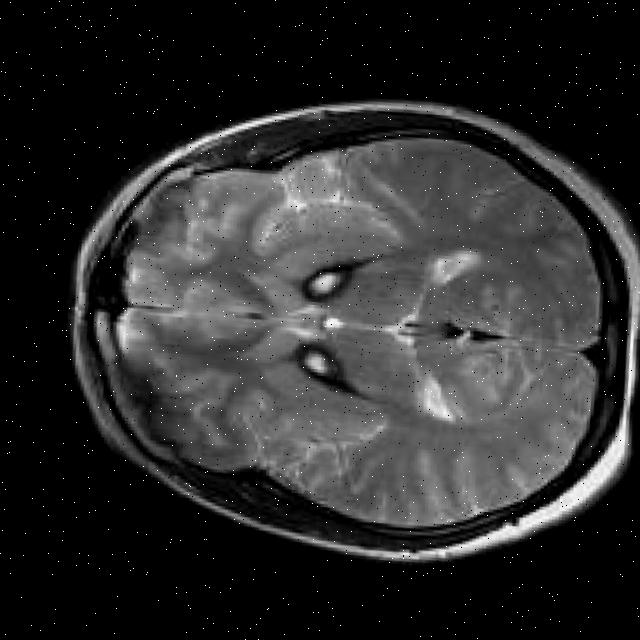NoTumor: (31, 56, 640, 599)
